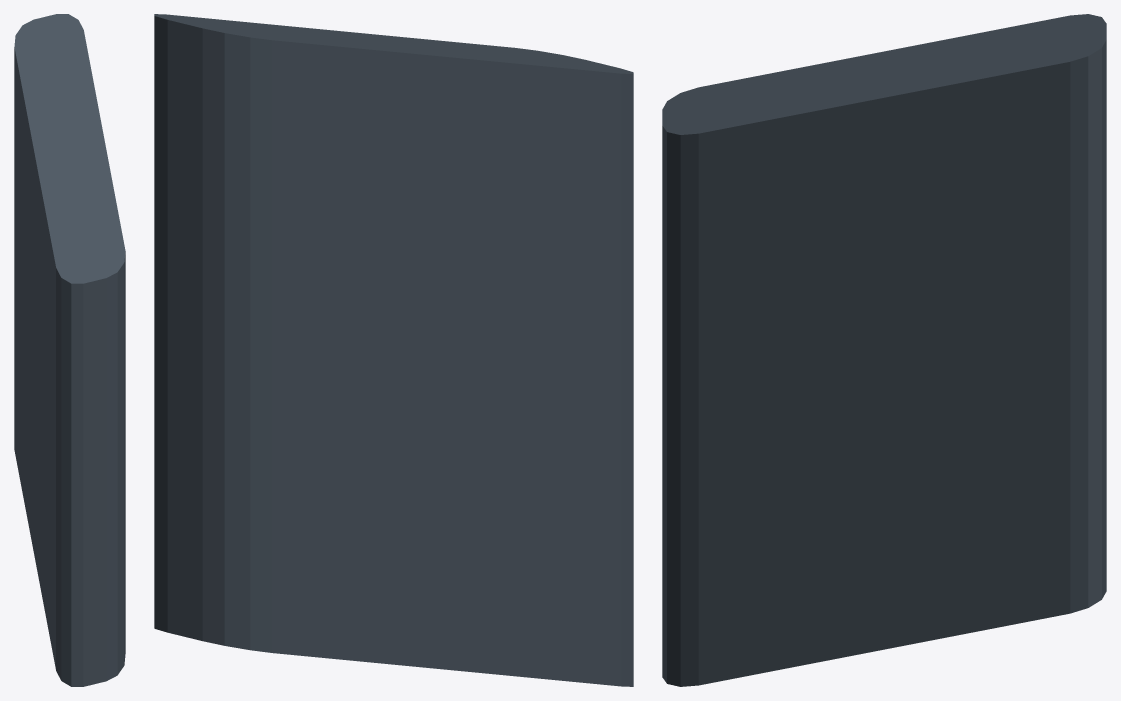
The model's file is Bridge_Anchor.gltf.
3 renders of one model, left to right at view 1: azimuth 30°, elevation 25°; view 2: azimuth 150°, elevation 25°; view 3: azimuth 270°, elevation 25°, orthographic. The views are drawn at different scales.
Parts seen in each view (by area): view 1: Bridge_Anchor_baked; view 2: Bridge_Anchor_baked; view 3: Bridge_Anchor_baked.
Part boxes in pixels (x1,y1,x2,y2): Bridge_Anchor_baked: (14,14,125,686); Bridge_Anchor_baked: (154,14,633,686); Bridge_Anchor_baked: (662,14,1106,686).
Size of the model in its own units: 0.4319 by 1.29 by 0.73.
